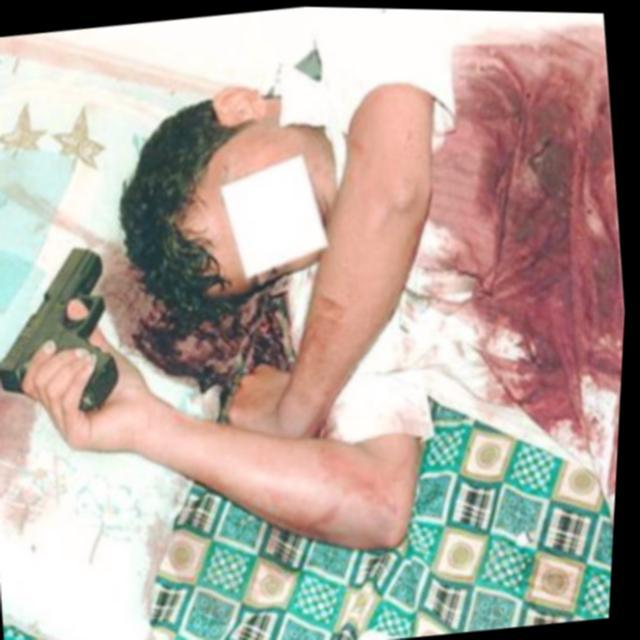weapon: (0, 238, 133, 422)
